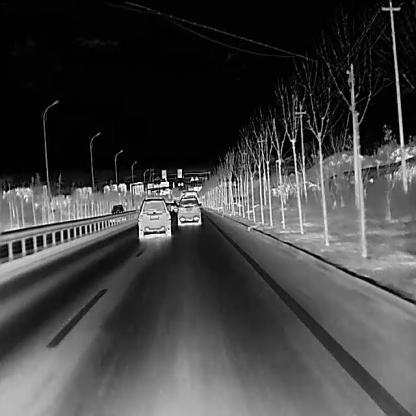car: (136, 196, 170, 239), (175, 196, 201, 226), (110, 204, 125, 222)
